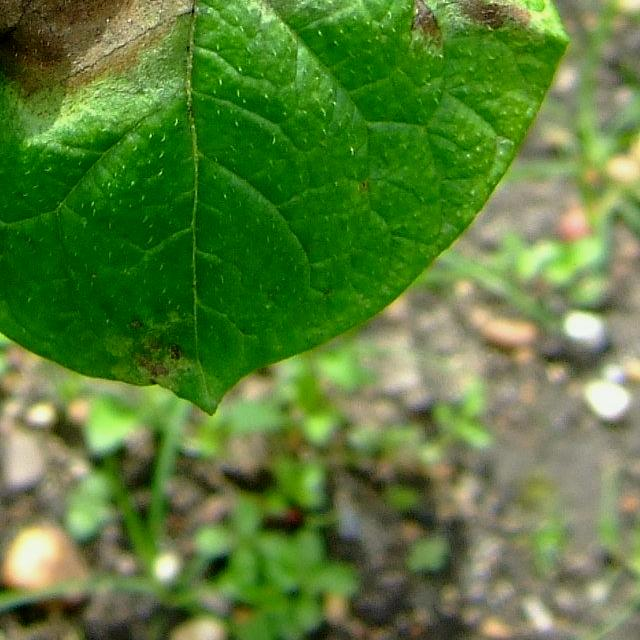Tomato leaf late blight: (0, 0, 609, 364)
